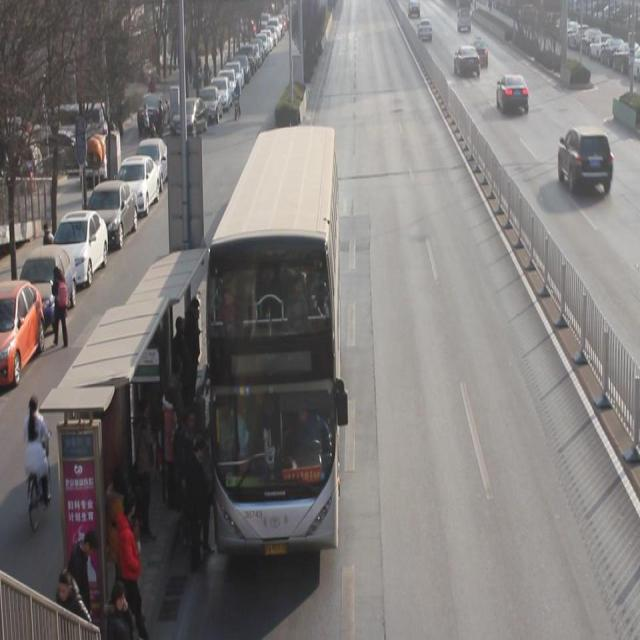car: (559, 125, 616, 196), (496, 71, 531, 115), (454, 43, 482, 79), (471, 34, 490, 66), (417, 16, 433, 42)
truck: (457, 9, 472, 31)
van: (207, 132, 340, 551)
